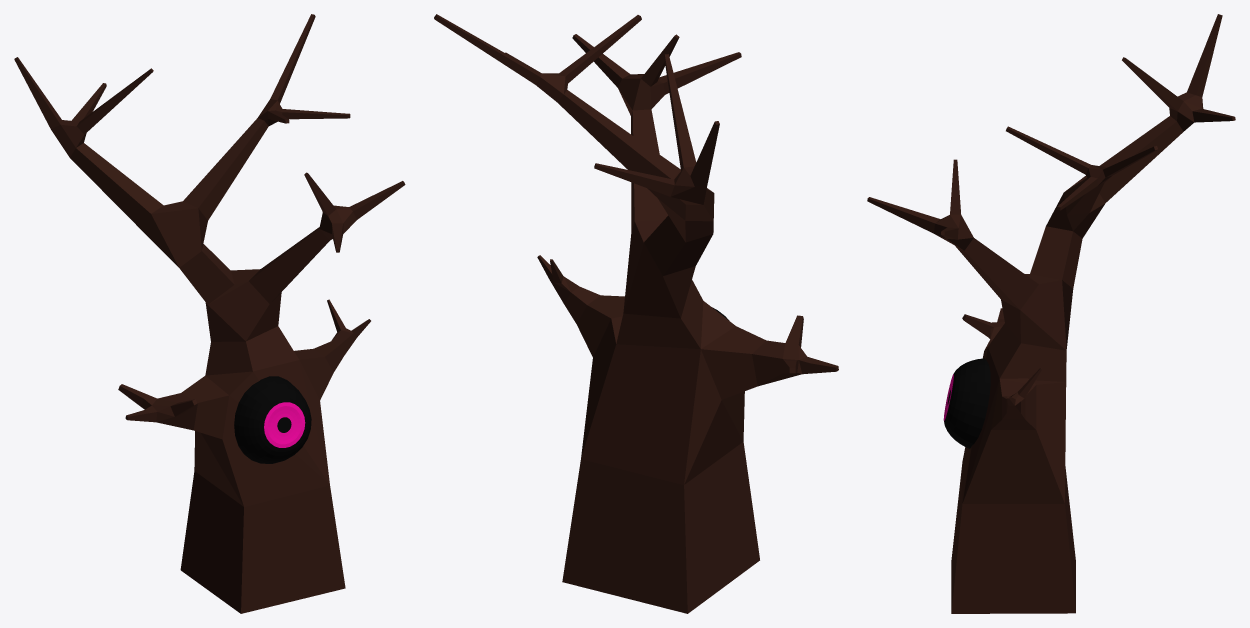
The model's file is Revised_Corrupted_Treant.fbx.
3 views of the same model, side by side, from view 1: azimuth 30°, elevation 25°; view 2: azimuth 150°, elevation 25°; view 3: azimuth 270°, elevation 25° (orthographic). The views are drawn at different scales.
Visible parts, largest first — view 1: Cylinder; view 2: Cylinder; view 3: Cylinder.
Boxes of the visible parts, x1=… form: Cylinder: x1=14, y1=14, x2=405, y2=613; Cylinder: x1=434, y1=14, x2=838, y2=613; Cylinder: x1=867, y1=14, x2=1235, y2=613.
Bounding box in the file's own units: 111 × 190 × 127.
